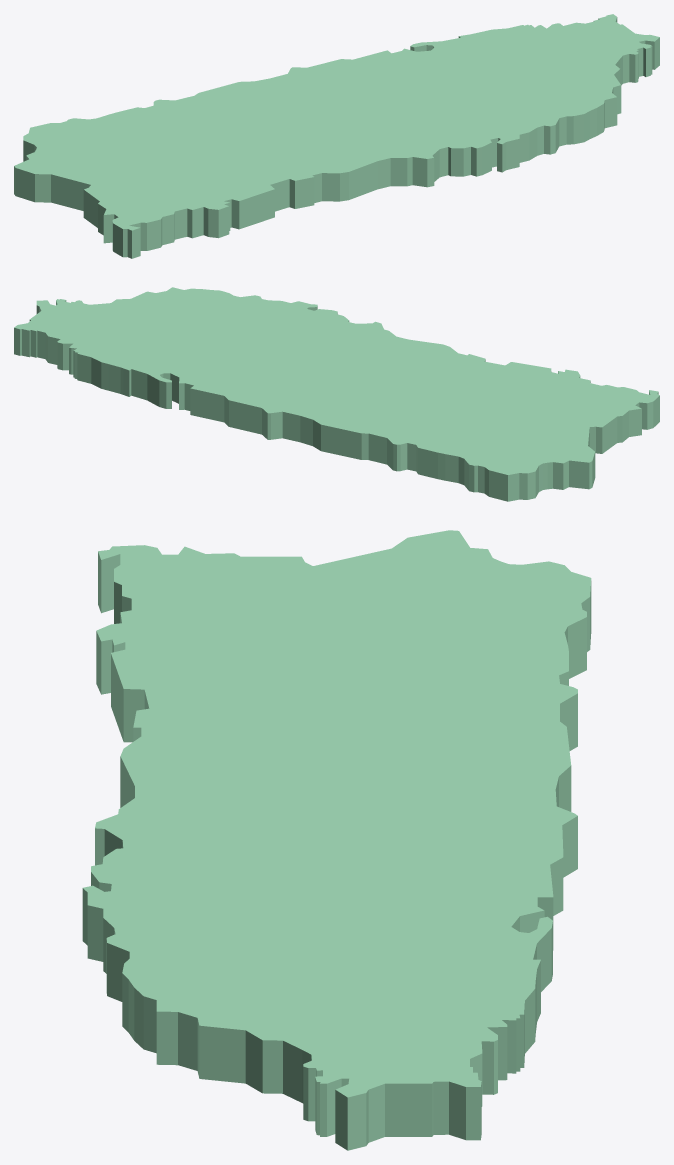
File: Puerto Rico-transformed.glb
The picture shows the model from 3 angles, top to bottom: view 1: azimuth 30°, elevation 25°; view 2: azimuth 150°, elevation 25°; view 3: azimuth 270°, elevation 25°; orthographic projection. The views are drawn at different scales.
Visible parts, largest first — view 1: Plane; view 2: Plane; view 3: Plane.
Boxes of the visible parts, x1,y1,x2,y2 form: Plane: [14, 14, 659, 258]; Plane: [14, 287, 659, 501]; Plane: [82, 530, 591, 1150].
Size of the model in its own units: 3.41 by 0.1491 by 1.29.
